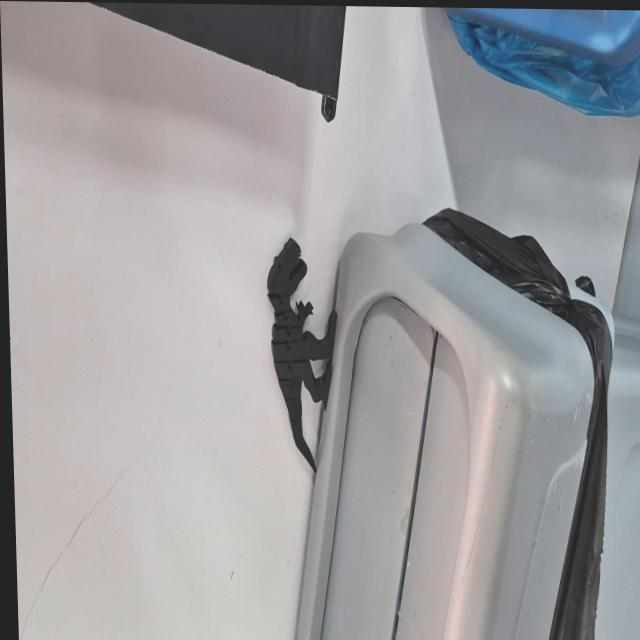dino: (265, 235, 342, 474)
